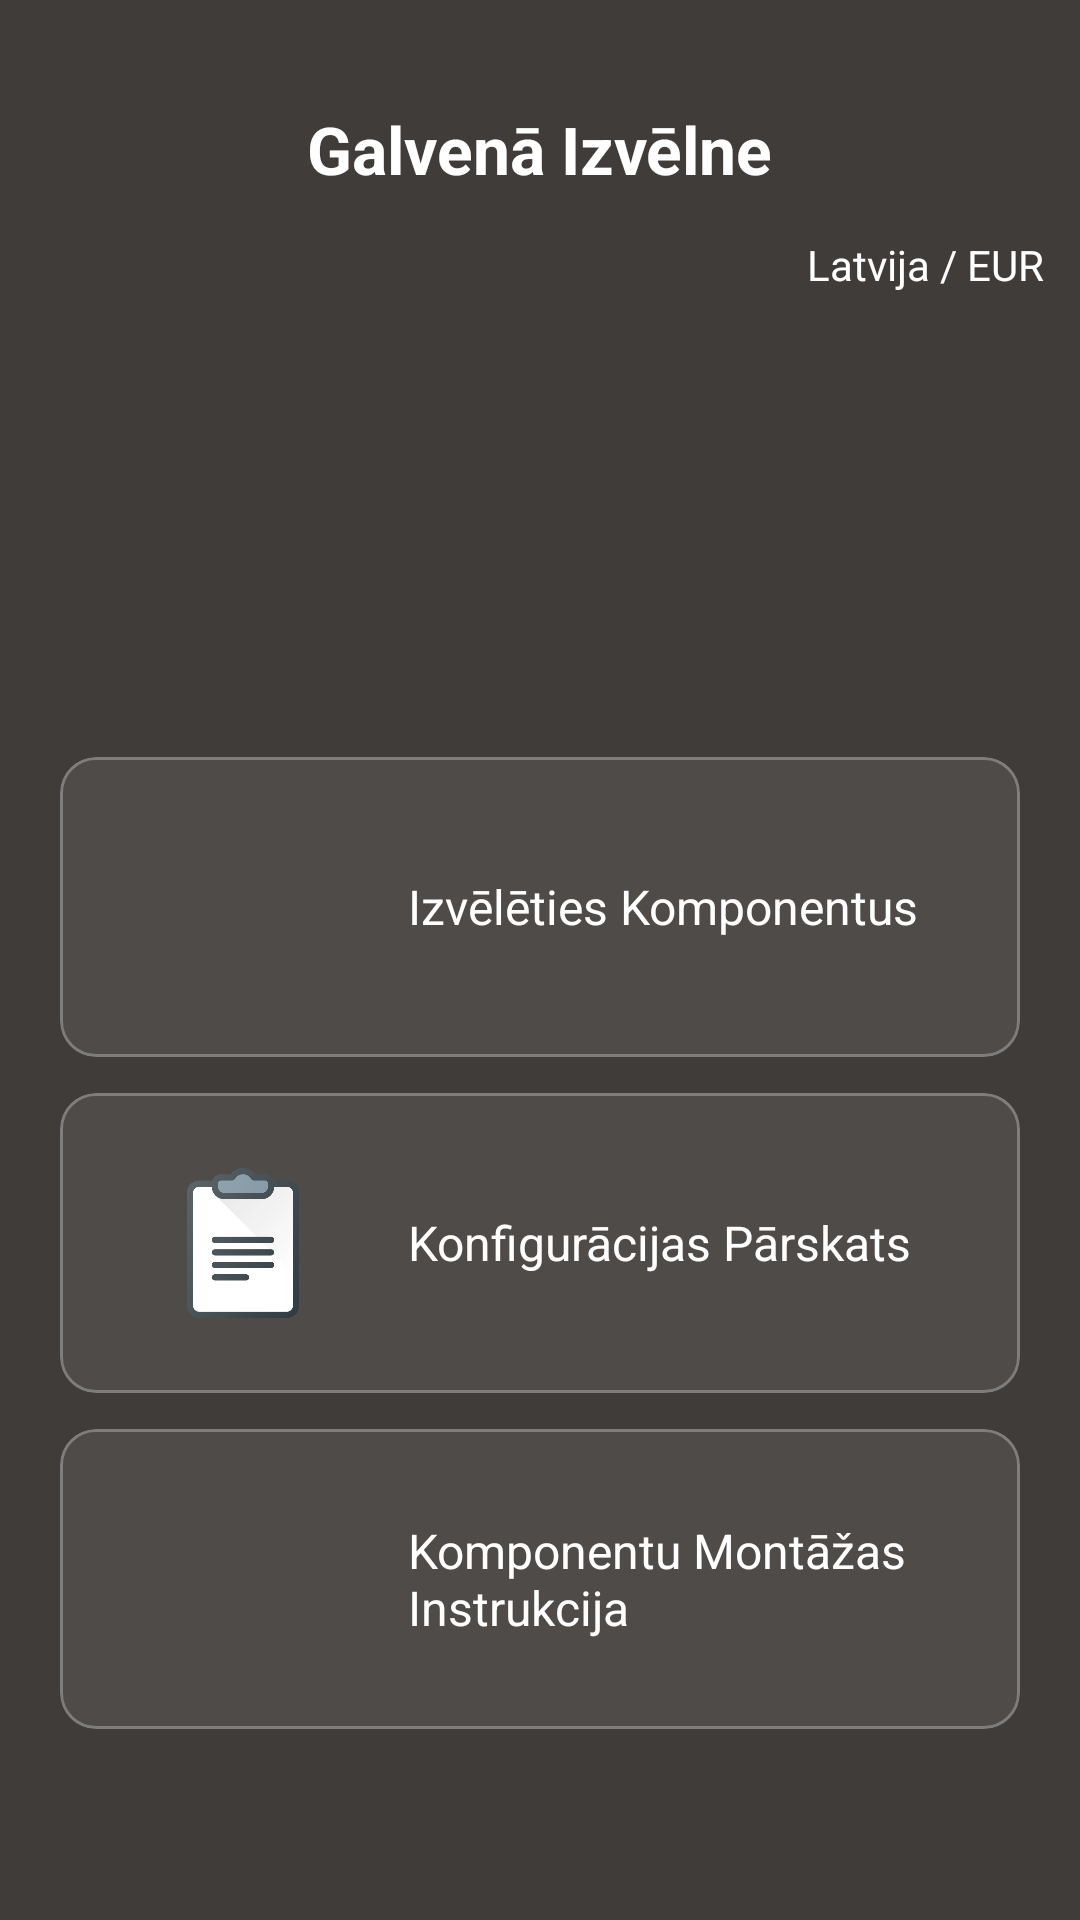

Icons on this 1080w x 1920h Android screen, each with its box as [x1=x1, y1=y1, x2=x2, y2=y2]:
clipboard: [x1=187, y1=1174, x2=299, y2=1318]
